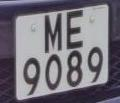0: (42, 52, 65, 95)
8: (64, 48, 86, 89)
9: (20, 51, 44, 99), (85, 44, 105, 87)
E: (64, 7, 89, 54)
M: (42, 10, 66, 58)
